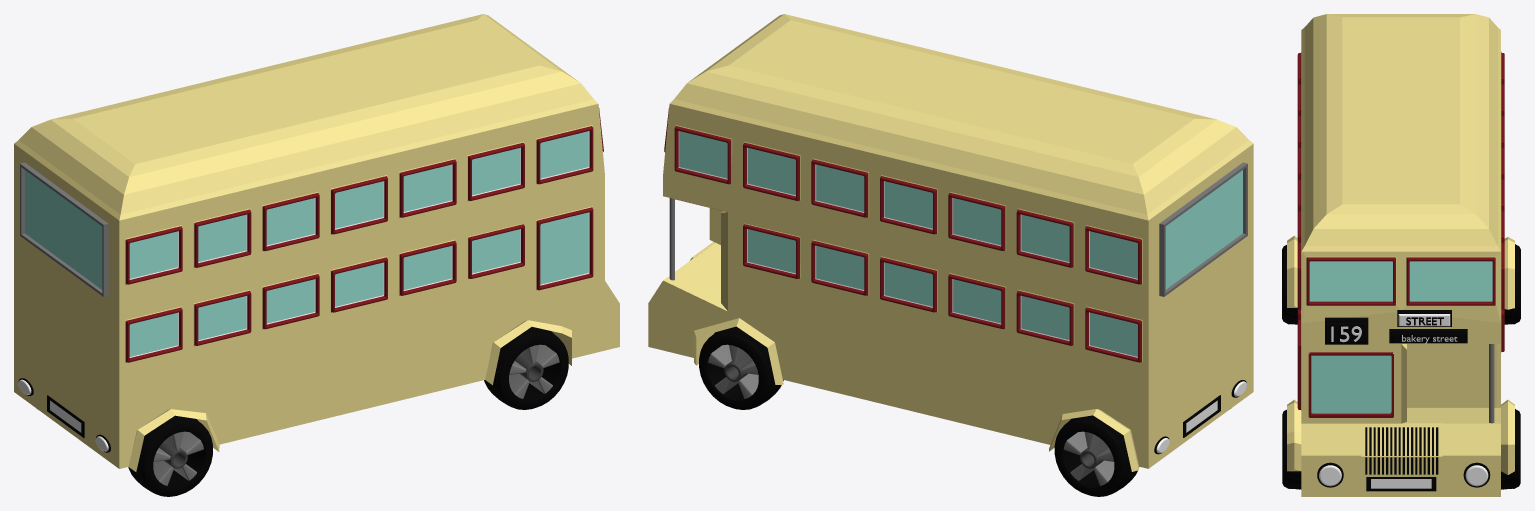
The model's file is bus_lv3.fbx.
3 renders of one model, left to right at view 1: azimuth 30°, elevation 25°; view 2: azimuth 150°, elevation 25°; view 3: azimuth 270°, elevation 25°, orthographic. The views are drawn at different scales.
Visible parts, largest first — view 1: bus_lv3, wheelbus_lv3_1, wheelbus_lv3_4; view 2: bus_lv3, wheelbus_lv3_2, wheelbus_lv3_3; view 3: bus_lv3, wheelbus_lv3_2, wheelbus_lv3_1, wheelbus_lv3_3, wheelbus_lv3_4.
Boxes of the visible parts, <box> form: bus_lv3: <box>14,14,619,471</box>; wheelbus_lv3_1: <box>484,327,568,409</box>; wheelbus_lv3_4: <box>128,415,212,496</box>; bus_lv3: <box>648,14,1253,471</box>; wheelbus_lv3_2: <box>699,326,783,409</box>; wheelbus_lv3_3: <box>1054,415,1137,496</box>; bus_lv3: <box>1287,14,1514,496</box>; wheelbus_lv3_2: <box>1501,409,1520,489</box>; wheelbus_lv3_1: <box>1282,409,1301,489</box>; wheelbus_lv3_3: <box>1504,244,1520,324</box>; wheelbus_lv3_4: <box>1282,245,1297,324</box>.
Bounding box in the file's own units: 1449 × 854 × 621.
